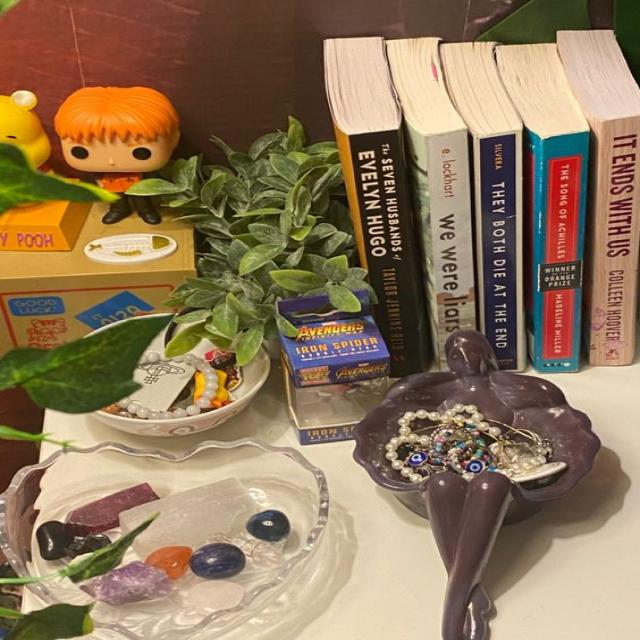book: (326, 38, 430, 376), (495, 44, 589, 372), (386, 37, 475, 369), (556, 30, 639, 366), (440, 42, 523, 369)
figurine: (54, 87, 178, 224)
plants: (132, 118, 374, 363)
